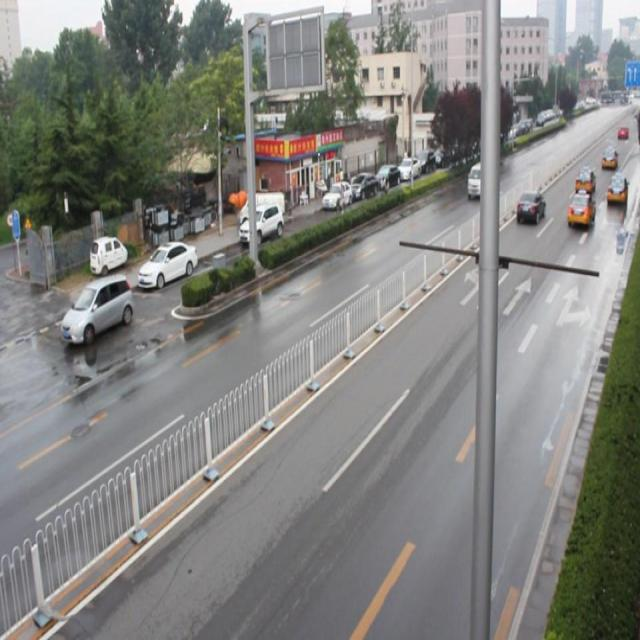car: (514, 192, 545, 224), (566, 192, 593, 225), (605, 171, 628, 206), (573, 166, 594, 194)
truck: (466, 160, 493, 200)
